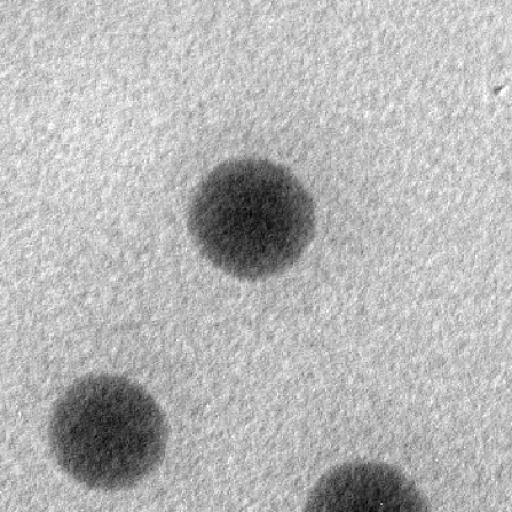Nanoparticles: (188, 151, 320, 284), (48, 369, 170, 493), (306, 461, 430, 512)
